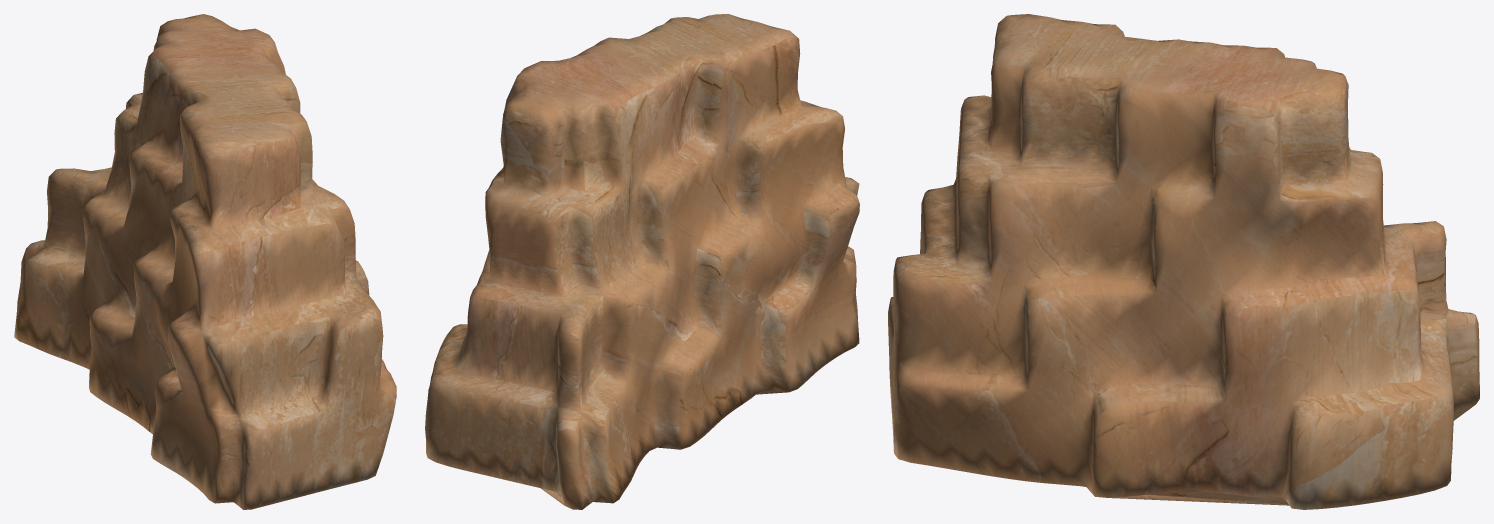
The model's file is RockWall.fbx.
The picture shows the model from 3 angles, left to right: view 1: azimuth 30°, elevation 25°; view 2: azimuth 150°, elevation 25°; view 3: azimuth 270°, elevation 25°; orthographic projection. The views are drawn at different scales.
Visible parts, largest first — view 1: Plane; view 2: Plane; view 3: Plane.
Part boxes in pixels (x1,y1,x2,y2): Plane: (14,14,396,509); Plane: (425,14,859,509); Plane: (888,14,1479,509).
Bounding box in the file's own units: 335 × 402 × 566.
